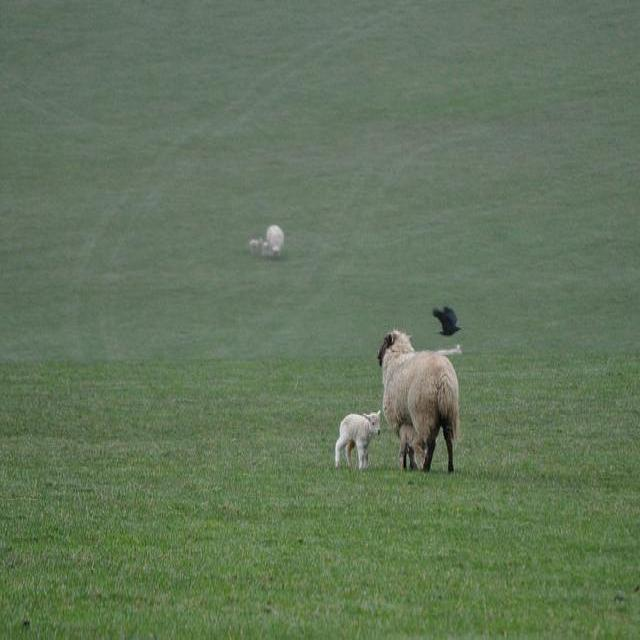Sheep: (378, 329, 459, 474), (336, 411, 381, 471)
